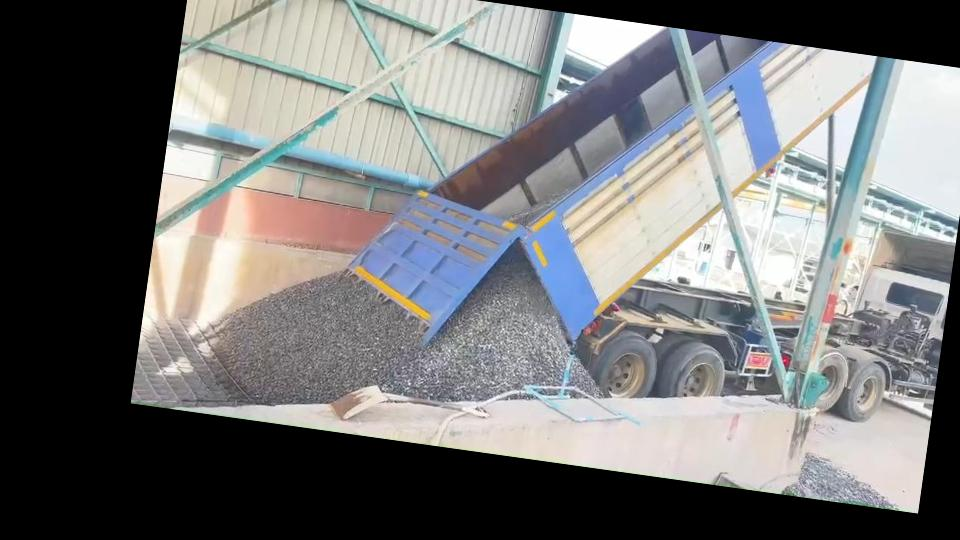gravel: (210, 245, 569, 404), (784, 454, 897, 508), (571, 359, 599, 395)
